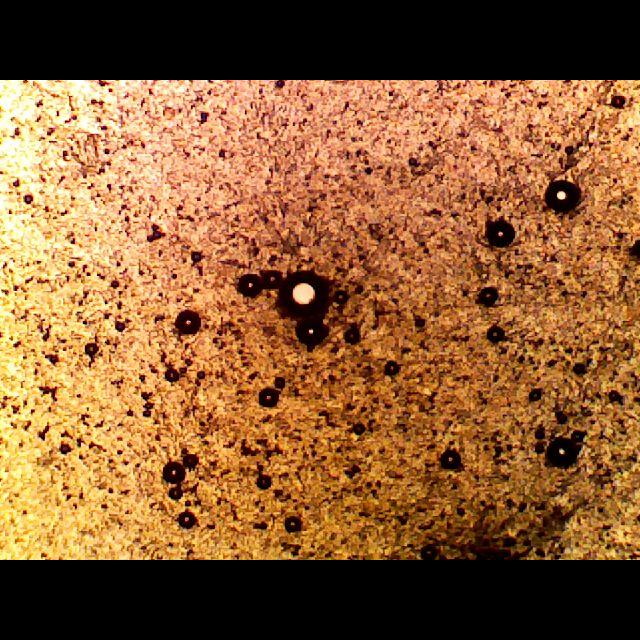microbeads: (272, 264, 336, 324), (539, 178, 587, 216)
